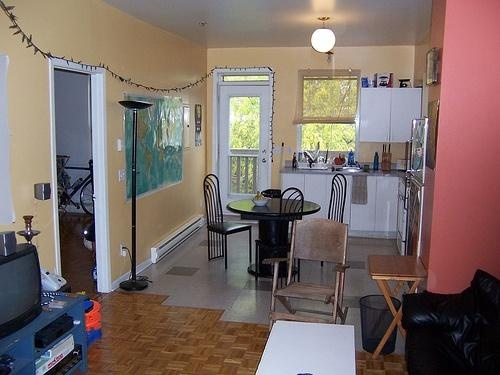bicycle: (58, 156, 94, 218)
chair: (263, 218, 351, 329), (256, 189, 306, 292), (203, 174, 254, 273), (329, 174, 348, 223)
sofa: (401, 270, 500, 375)
tvmonitor: (1, 244, 43, 340)
